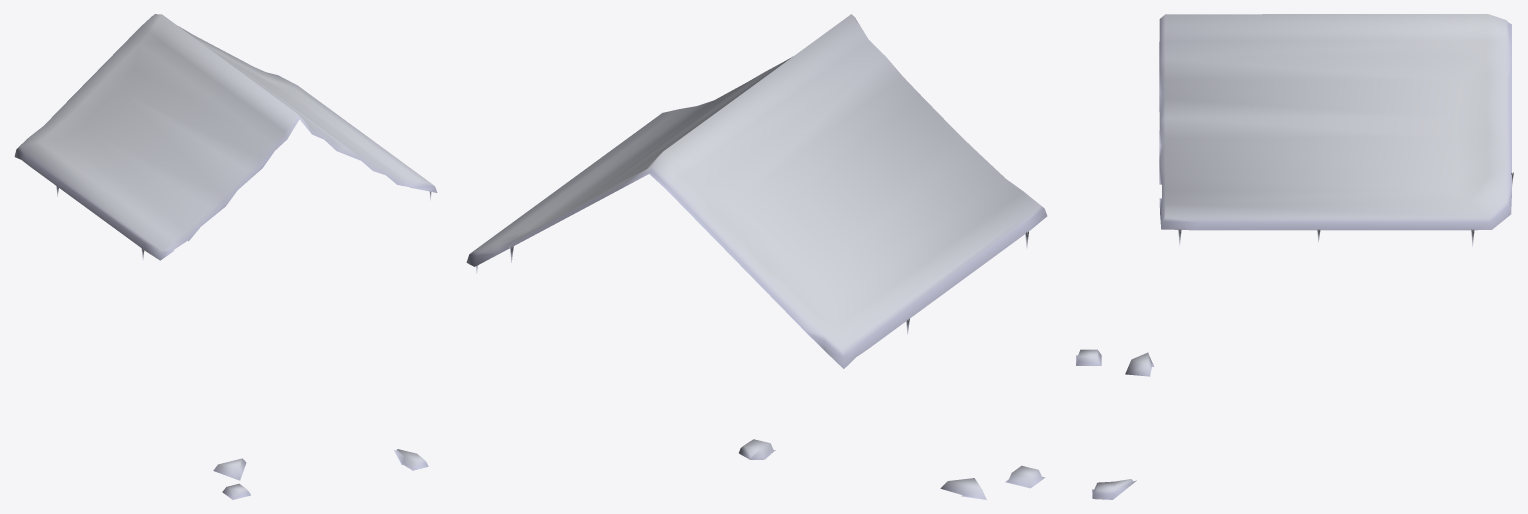
The model's file is storehouse.snow.glb.
3 views of the same model, side by side, from view 1: azimuth 30°, elevation 25°; view 2: azimuth 150°, elevation 25°; view 3: azimuth 270°, elevation 25° (orthographic). The views are drawn at different scales.
Parts seen in each view (by area): view 1: snow; view 2: snow; view 3: snow.
Boxes of the visible parts, x1,y1,x2,y2 form: snow: (14,14,437,499); snow: (466,14,1047,499); snow: (1076,14,1513,499).
Size of the model in its own units: 3.89 by 4.69 by 4.37.
